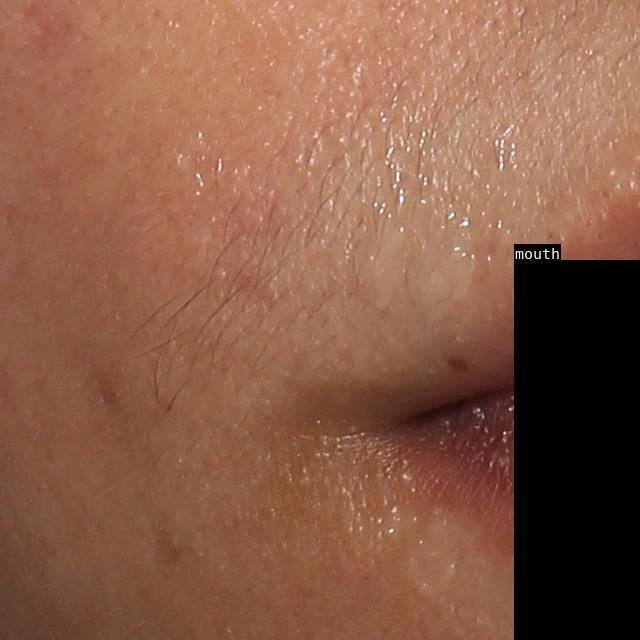nevus: (445, 355, 472, 371)
